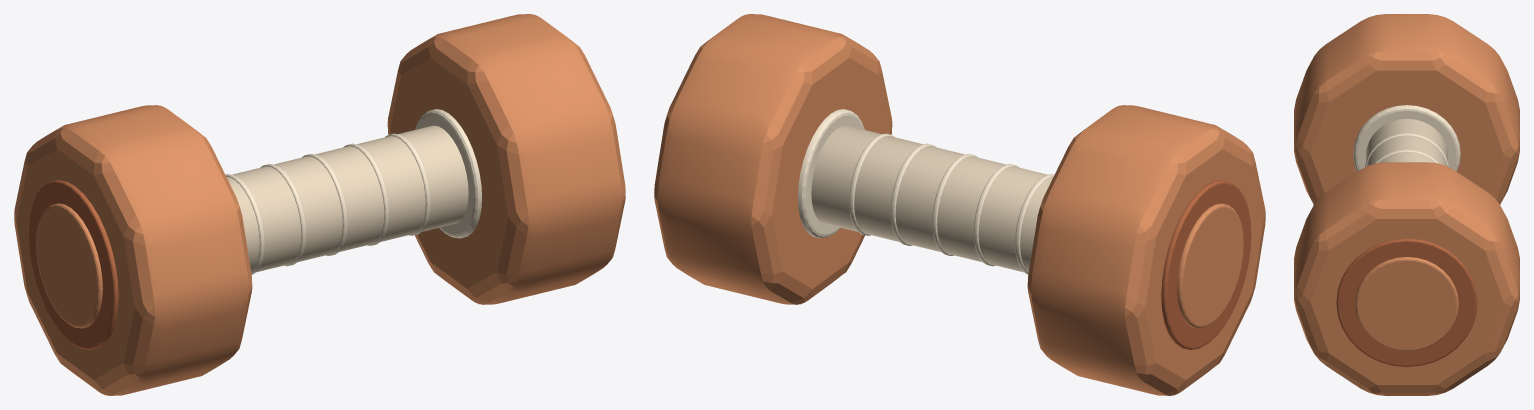
The picture shows the model from 3 angles, left to right: view 1: azimuth 30°, elevation 25°; view 2: azimuth 150°, elevation 25°; view 3: azimuth 270°, elevation 25°; orthographic projection. The views are drawn at different scales.
Parts seen in each view (by area): view 1: Weight R, Weight L, Grip, End cap inset L, End cap L, Collar R, Grip detail 04, Grip detail 01, Grip detail 02, Grip detail 03, Grip detail 00; view 2: Weight R, Weight L, Grip, End cap inset L, End cap L, Collar R, Grip detail 04, Grip detail 01, Grip detail 02, Grip detail 03, Grip detail 00; view 3: Weight R, Weight L, End cap inset R, End cap R, Grip, Collar L, Grip detail 00, Grip detail 01.
Boxes of the visible parts, bbox=[...] form: Weight R: bbox=[387, 14, 625, 304]; Weight L: bbox=[14, 105, 252, 395]; Grip: bbox=[226, 125, 468, 272]; End cap inset L: bbox=[36, 203, 102, 328]; End cap L: bbox=[28, 180, 118, 349]; Collar R: bbox=[415, 109, 481, 238]; Grip detail 04: bbox=[385, 133, 430, 235]; Grip detail 01: bbox=[260, 164, 306, 266]; Grip detail 02: bbox=[302, 154, 347, 255]; Grip detail 03: bbox=[343, 143, 389, 245]; Grip detail 00: bbox=[225, 174, 264, 274]; Weight R: bbox=[654, 14, 892, 304]; Weight L: bbox=[1027, 105, 1265, 395]; Grip: bbox=[811, 125, 1053, 272]; End cap inset L: bbox=[1177, 203, 1243, 328]; End cap L: bbox=[1161, 180, 1251, 349]; Collar R: bbox=[798, 109, 864, 238]; Grip detail 04: bbox=[849, 133, 894, 235]; Grip detail 01: bbox=[973, 164, 1019, 266]; Grip detail 02: bbox=[932, 154, 977, 255]; Grip detail 03: bbox=[890, 143, 936, 245]; Grip detail 00: bbox=[1015, 174, 1054, 274]; Weight R: bbox=[1294, 162, 1519, 395]; Weight L: bbox=[1294, 14, 1519, 204]; End cap inset R: bbox=[1355, 257, 1458, 351]; End cap R: bbox=[1336, 238, 1477, 366]; Grip: bbox=[1366, 118, 1447, 165]; Collar L: bbox=[1353, 105, 1460, 171]; Grip detail 00: bbox=[1365, 133, 1448, 166]; Grip detail 01: bbox=[1374, 149, 1439, 163].
Size of the model in its own units: 1.1 by 0.5136 by 0.5217.
